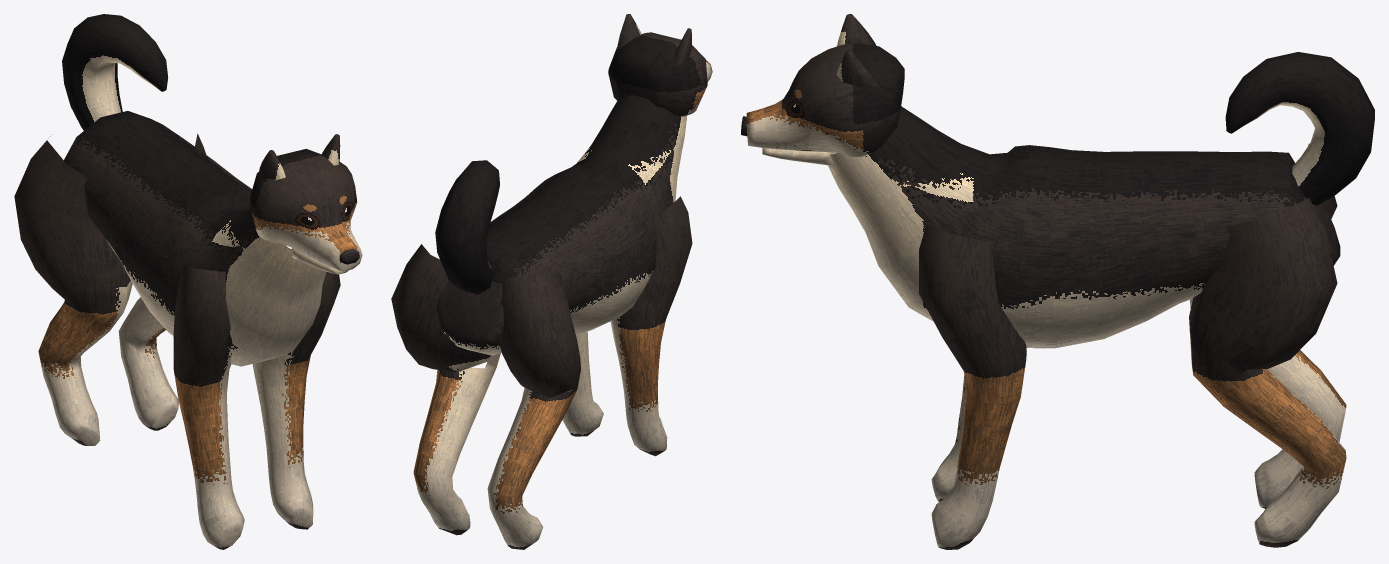
Rendered from dog_kuro.glb.
3 renders of one model, left to right at view 1: azimuth 30°, elevation 25°; view 2: azimuth 150°, elevation 25°; view 3: azimuth 270°, elevation 25°, orthographic. The views are drawn at different scales.
Visible parts, largest first — view 1: dog_kuro; view 2: dog_kuro; view 3: dog_kuro.
Part boxes in pixels (x1,y1,x2,y2): dog_kuro: [14, 14, 362, 549]; dog_kuro: [391, 14, 712, 549]; dog_kuro: [741, 14, 1374, 549].
Size of the model in its own units: 0.2465 by 0.5454 by 0.6336.
Materials: 1 (1 with a texture image).
